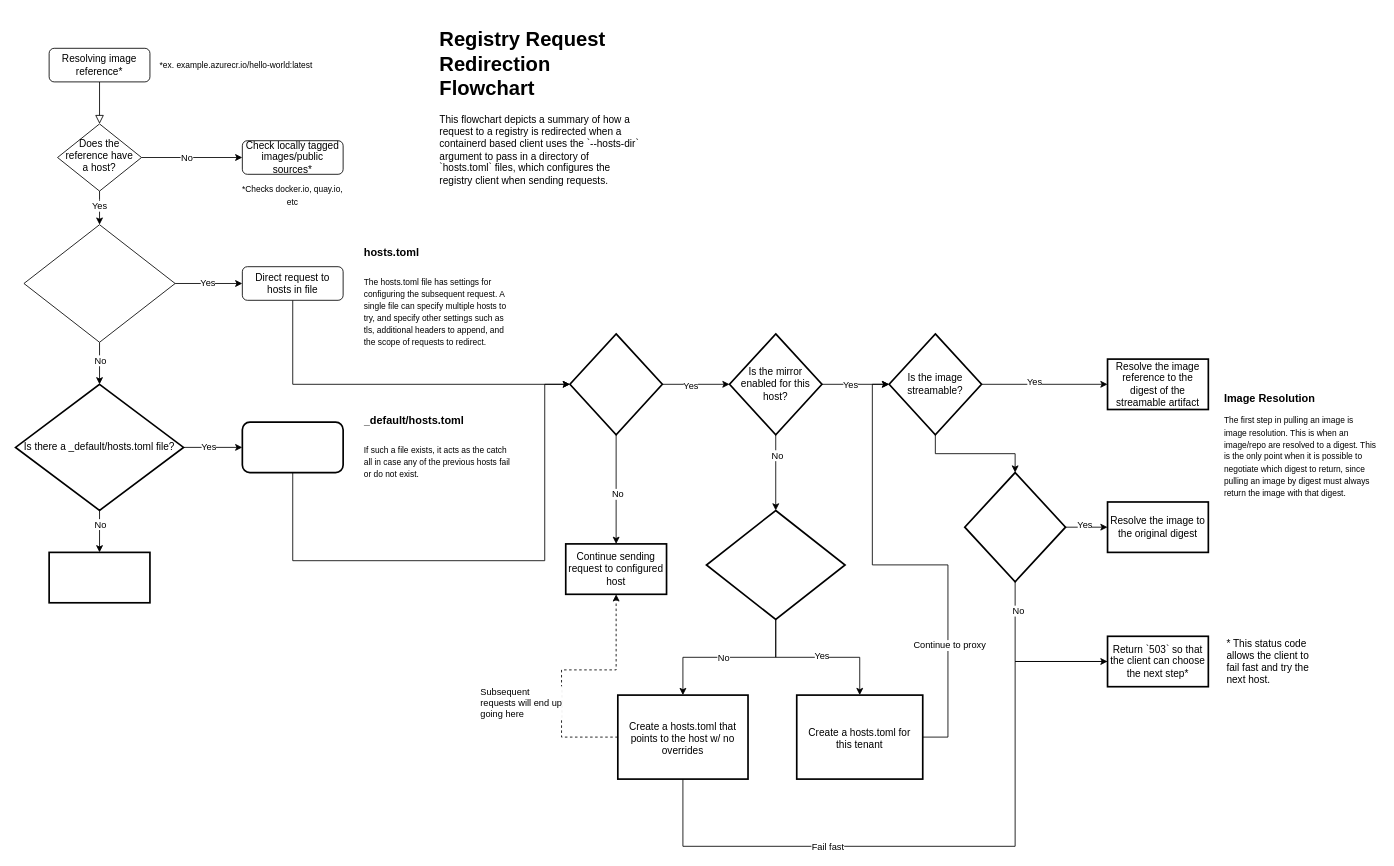
Some shapes in this 1394 by 866 pixel diagram are drawn without their labels. Here are the shapes that lost their labels. From the top down, the centre of each, then its label:
At (99,283): "Does the host have a hosts.toml?".
At (616,384): "Is the host the mirror proxy?".
At (292,447): "Direct request to default host in file".
At (1014,526): "Did we resolve the reference?".
At (99,577): "Send the request to host in image reference".
At (775,564): "Does suffix match x-ms-enable-if-suffix?".
